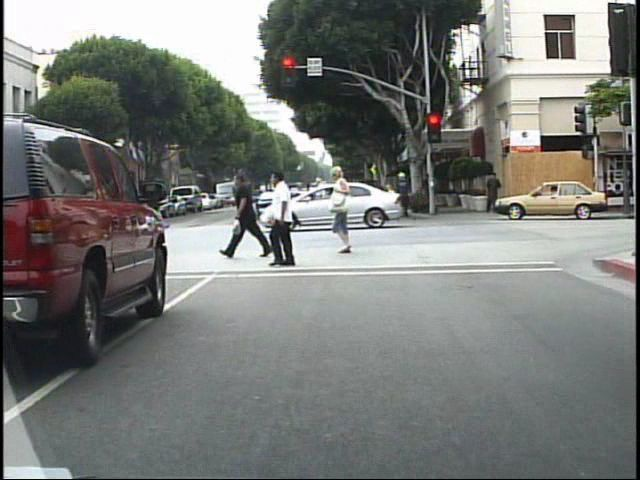person: (260, 173, 312, 271), (230, 169, 273, 264), (331, 163, 365, 257), (391, 164, 413, 225), (313, 174, 334, 223), (300, 179, 320, 225), (355, 176, 374, 223), (118, 181, 136, 228), (151, 180, 167, 232), (484, 170, 502, 216), (4, 192, 22, 238), (6, 198, 22, 236)
